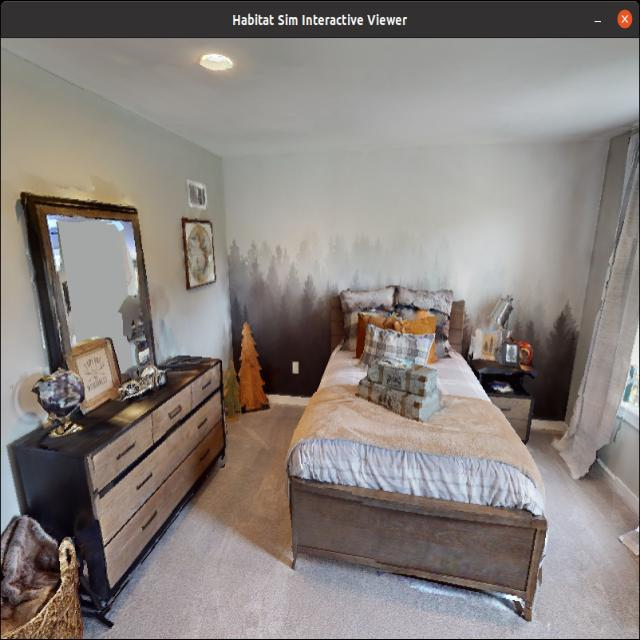bed: (283, 279, 550, 619)
